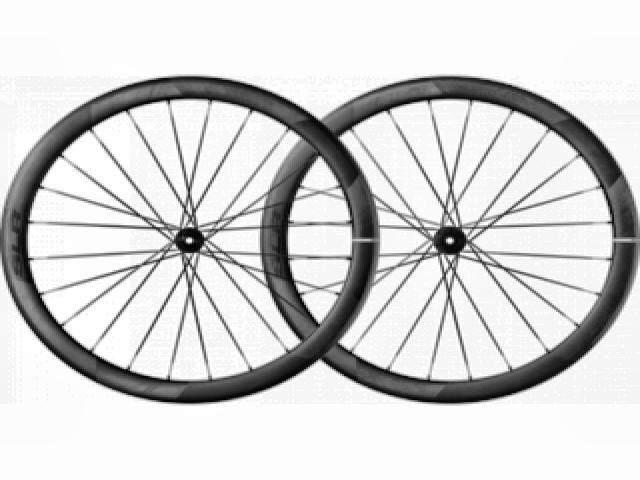wheel: (260, 71, 640, 404), (0, 75, 380, 407)
